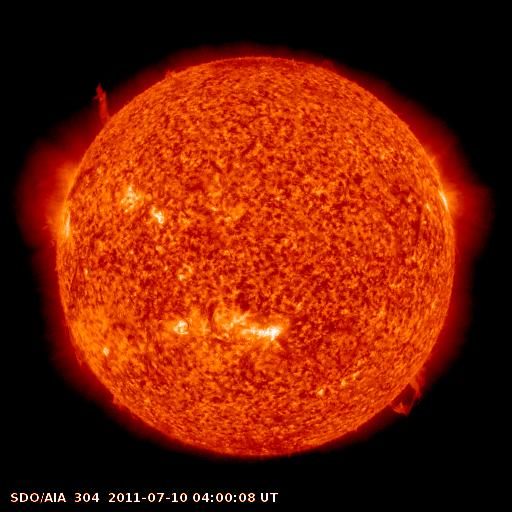prominence: (379, 365, 438, 425), (88, 75, 125, 139)
